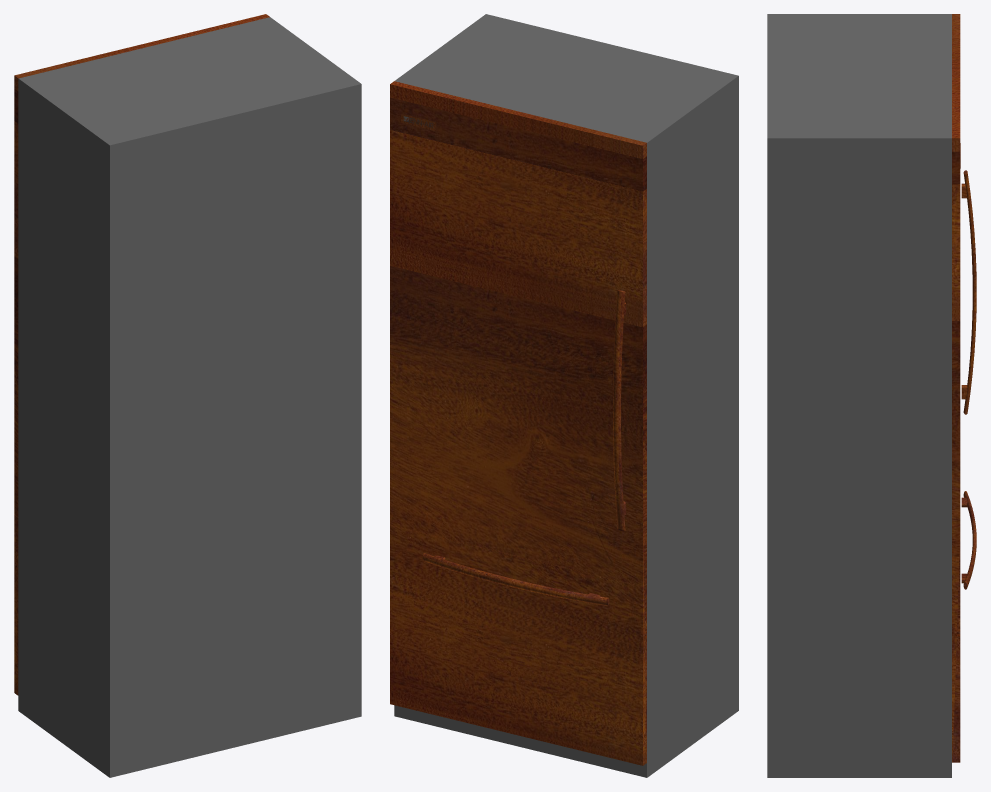
The picture shows the model from 3 angles, left to right: view 1: azimuth 30°, elevation 25°; view 2: azimuth 150°, elevation 25°; view 3: azimuth 270°, elevation 25°; orthographic projection.
Parts seen in each view (by area): view 1: mesh1_mesh1-geometry, mesh21_mesh21-geometry, mesh3_mesh3-geometry, mesh25_mesh25-geometry; view 2: mesh21_mesh21-geometry, mesh1_mesh1-geometry, mesh25_mesh25-geometry, mesh23_mesh23-geometry, mesh3_mesh3-geometry, mesh13_mesh13-geometry, mesh5_mesh5-geometry; view 3: mesh1_mesh1-geometry, mesh21_mesh21-geometry, mesh25_mesh25-geometry, mesh3_mesh3-geometry, mesh13_mesh13-geometry, mesh5_mesh5-geometry.
Part boxes in pixels (<box>): mesh1_mesh1-geometry: <box>18,17,361,777</box>; mesh21_mesh21-geometry: <box>14,121,18,516</box>; mesh3_mesh3-geometry: <box>14,14,269,84</box>; mesh25_mesh25-geometry: <box>14,515,18,695</box>; mesh21_mesh21-geometry: <box>390,130,646,586</box>; mesh1_mesh1-geometry: <box>394,14,738,777</box>; mesh25_mesh25-geometry: <box>390,525,646,765</box>; mesh23_mesh23-geometry: <box>390,91,646,191</box>; mesh3_mesh3-geometry: <box>390,81,646,152</box>; mesh13_mesh13-geometry: <box>613,290,625,531</box>; mesh5_mesh5-geometry: <box>422,553,609,605</box>; mesh1_mesh1-geometry: <box>767,14,951,777</box>; mesh21_mesh21-geometry: <box>952,184,960,582</box>; mesh25_mesh25-geometry: <box>952,582,960,762</box>; mesh3_mesh3-geometry: <box>952,14,960,144</box>; mesh13_mesh13-geometry: <box>963,170,976,414</box>; mesh5_mesh5-geometry: <box>963,491,976,589</box>.
Bounding box in the file's own units: 0.3709 × 0.8903 × 0.2643.
